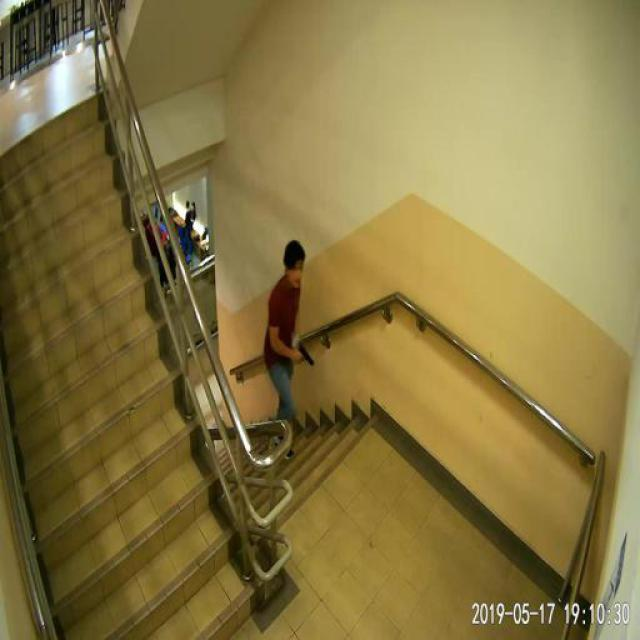weapon: (298, 344, 314, 366)
